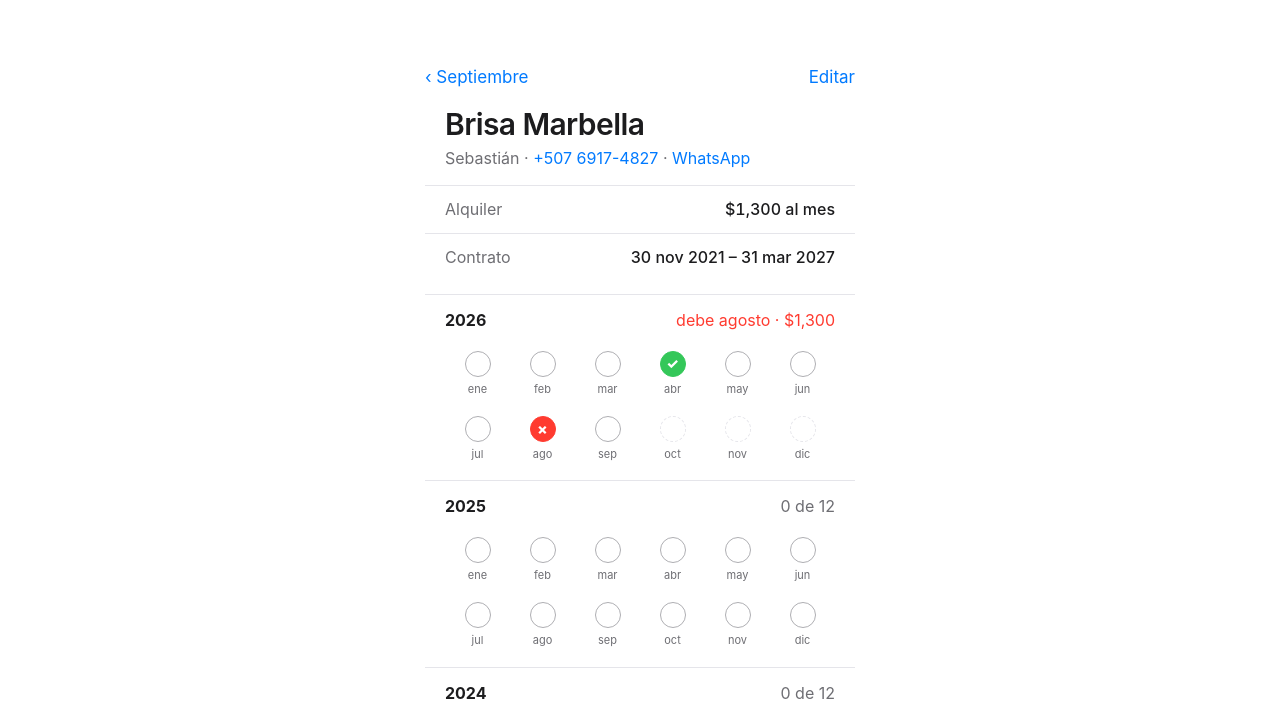
Propiedades · recargo por atraso › sin las columnas en la base, el recargo no existe
This screenshot has width=1280, height=706.
Click the button "Editar": (832, 78) [809,56,855,100]
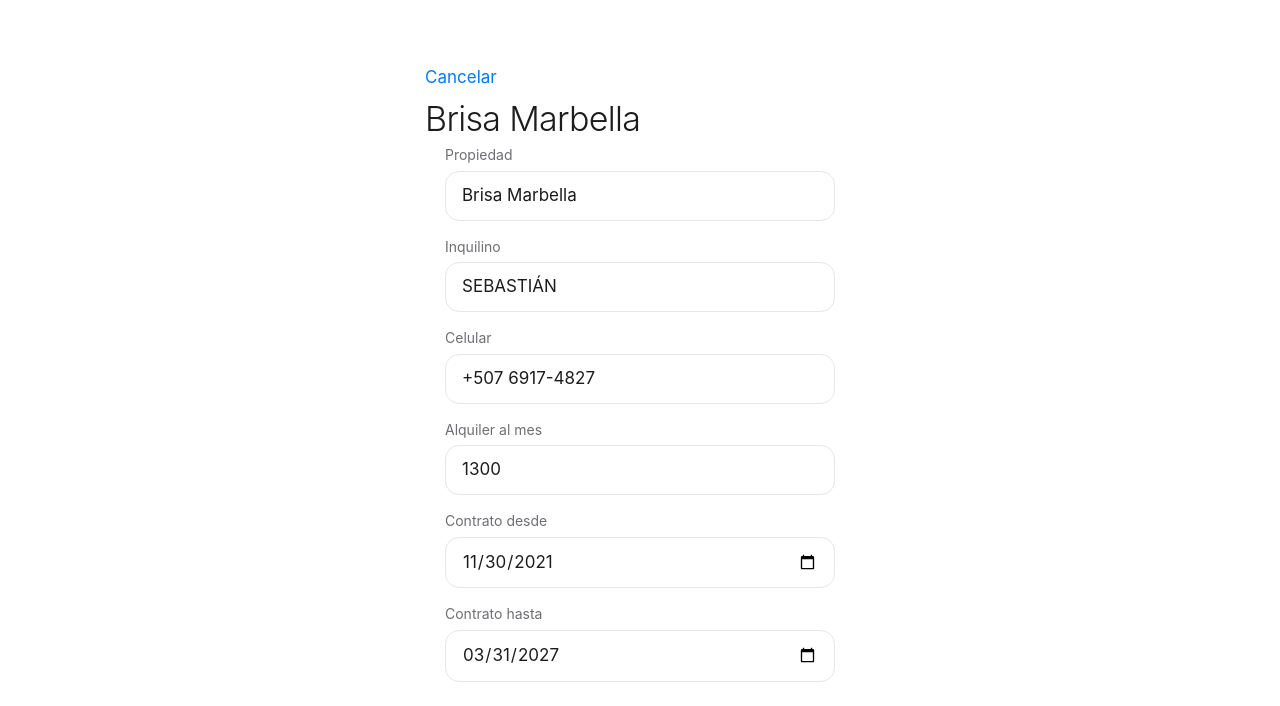
Expected: the field labelled "Inquilino" is shown, [445,262,835,312]
